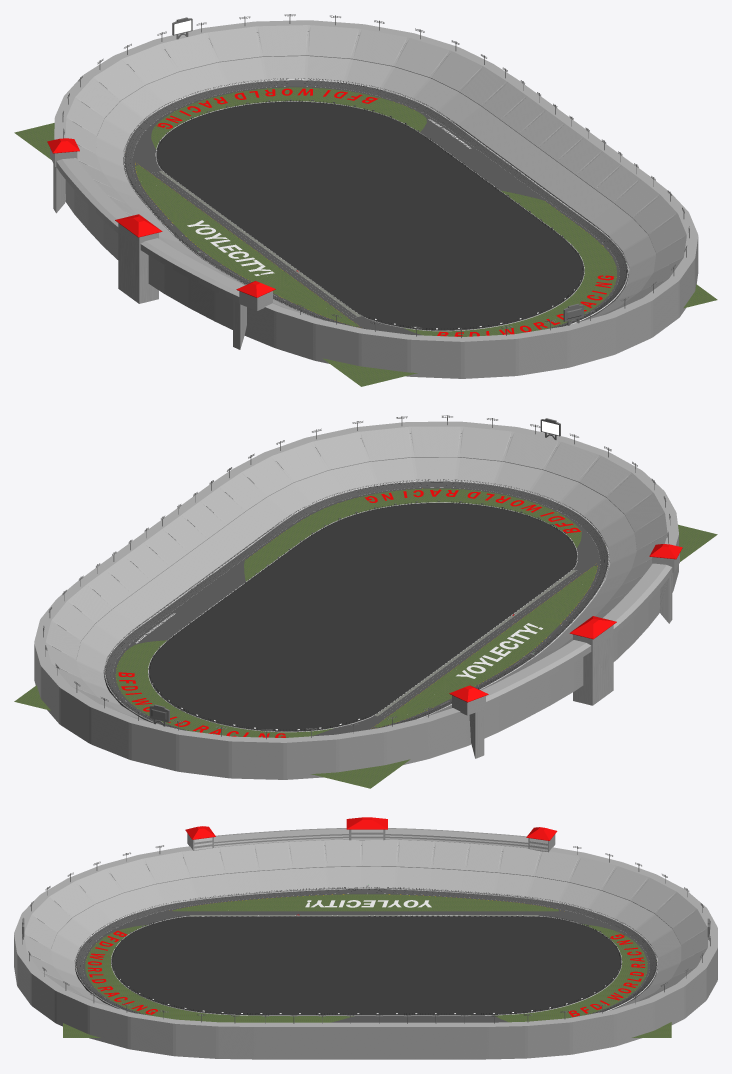
The model's file is track.glb.
3 renders of one model, top to bottom at view 1: azimuth 30°, elevation 25°; view 2: azimuth 150°, elevation 25°; view 3: azimuth 270°, elevation 25°, orthographic. The views are drawn at different scales.
Parts seen in each view (by area): view 1: Object_33, Object_27, Object_62, Object_26, Object_10, Object_6, Object_53, Object_80, Object_79, Object_58, Object_29, Object_109 (+2 smaller); view 2: Object_33, Object_27, Object_62, Object_26, Object_10, Object_6, Object_53, Object_80, Object_79, Object_58, Object_29, Object_109 (+4 smaller); view 3: Object_33, Object_27, Object_62, Object_26, Object_10, Object_6, Object_53, Object_80, Object_79, Object_29, Object_54, Object_15 (+5 smaller).
Boxes of the visible parts, x1=… form: Object_33: x1=54, y1=20, x2=698, y2=378; Object_27: x1=195, y1=118, x2=545, y2=314; Object_62: x1=156, y1=101, x2=584, y2=330; Object_26: x1=14, y1=87, x2=717, y2=386; Object_10: x1=132, y1=83, x2=619, y2=335; Object_6: x1=123, y1=80, x2=628, y2=327; Object_53: x1=53, y1=158, x2=246, y2=349; Object_80: x1=35, y1=130, x2=365, y2=367; Object_79: x1=135, y1=168, x2=351, y2=325; Object_58: x1=118, y1=223, x2=158, y2=303; Object_29: x1=156, y1=88, x2=614, y2=336; Object_109: x1=187, y1=220, x2=274, y2=275; Object_33: x1=34, y1=421, x2=678, y2=779; Object_27: x1=187, y1=519, x2=538, y2=715; Object_62: x1=148, y1=503, x2=577, y2=731; Object_26: x1=14, y1=488, x2=717, y2=788; Object_10: x1=113, y1=485, x2=600, y2=736; Object_6: x1=104, y1=481, x2=609, y2=728; Object_53: x1=469, y1=563, x2=672, y2=758; Object_80: x1=375, y1=530, x2=698, y2=727; Object_79: x1=382, y1=543, x2=679, y2=726; Object_58: x1=573, y1=625, x2=613, y2=705; Object_29: x1=118, y1=489, x2=580, y2=737; Object_109: x1=456, y1=623, x2=542, y2=678; Object_33: x1=14, y1=839, x2=717, y2=1059; Object_27: x1=146, y1=929, x2=586, y2=1001; Object_62: x1=111, y1=916, x2=621, y2=1015; Object_26: x1=63, y1=924, x2=671, y2=1037; Object_10: x1=83, y1=893, x2=649, y2=1022; Object_6: x1=75, y1=889, x2=657, y2=1013; Object_53: x1=214, y1=828, x2=528, y2=848; Object_80: x1=173, y1=894, x2=558, y2=911; Object_79: x1=178, y1=894, x2=553, y2=911; Object_29: x1=88, y1=930, x2=645, y2=1016; Object_54: x1=214, y1=835, x2=528, y2=847; Object_15: x1=229, y1=888, x2=622, y2=1011.
Size of what is drawn, in the model's own units: 882 by 138 by 1335.
27 materials, 4 textured.
